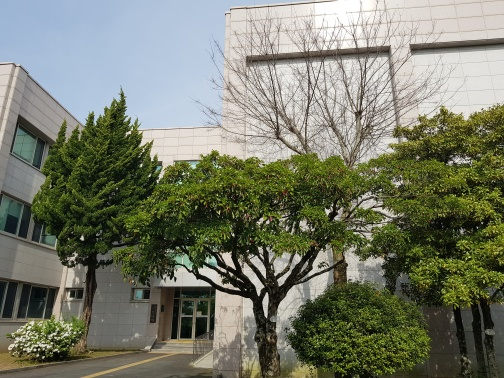College of Nursing: (18, 17, 488, 360)
